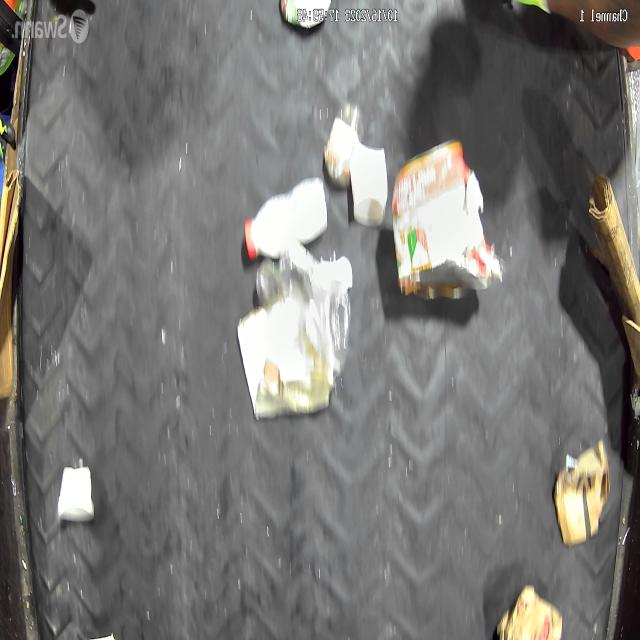can: (392, 140, 490, 301)
plastic_bottle: (256, 242, 352, 374)
